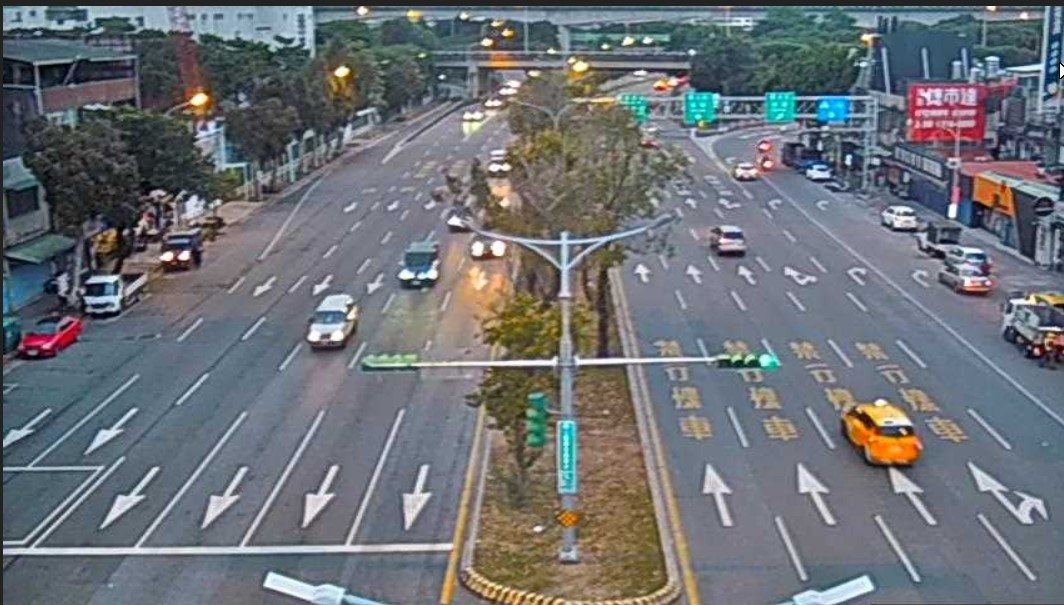Business Passenger Car: (842, 402, 916, 466), (706, 218, 748, 262)
Private Passenger Car: (20, 318, 82, 360), (934, 258, 992, 300), (400, 242, 442, 300), (312, 292, 354, 346), (880, 202, 916, 234), (947, 244, 990, 269), (732, 159, 762, 184)
